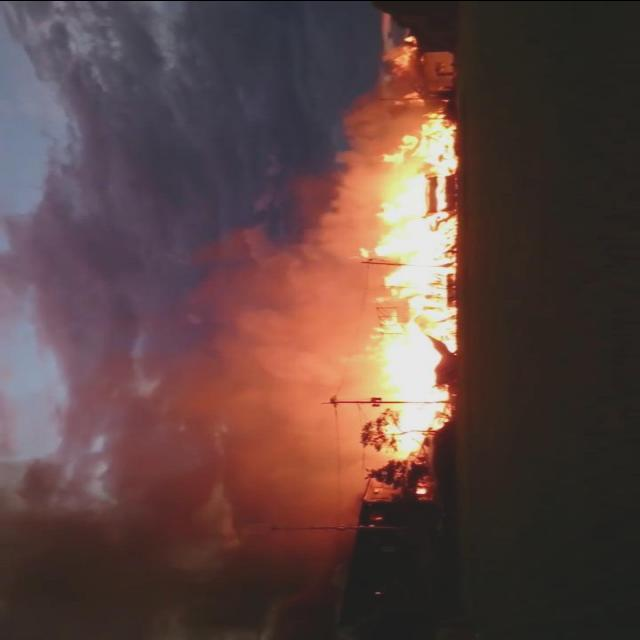Fire: (352, 108, 460, 462), (383, 33, 421, 71), (390, 88, 423, 106), (412, 487, 428, 493)
